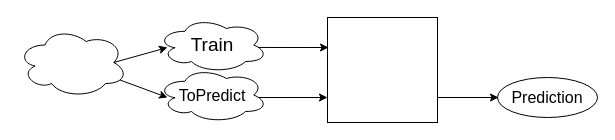
Image size: 615x140. Some labels were removed from this diagram. Here are the shapes that lost their labels. From the top down, the box of each, then its label:
(16, 26, 128, 98): RAW
(326, 16, 438, 122): Model
